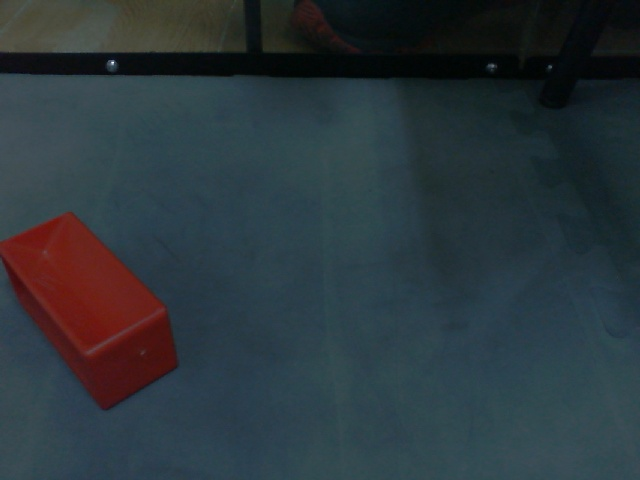RedSample: (1, 208, 181, 414)
